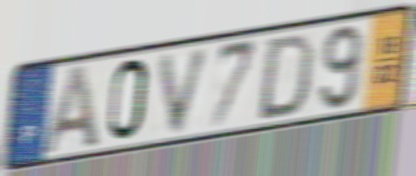0: (106, 56, 150, 145)
7: (211, 34, 260, 133)
9: (317, 22, 365, 113)
A: (39, 61, 102, 160)
D: (253, 30, 318, 124)
V: (157, 43, 215, 137)
